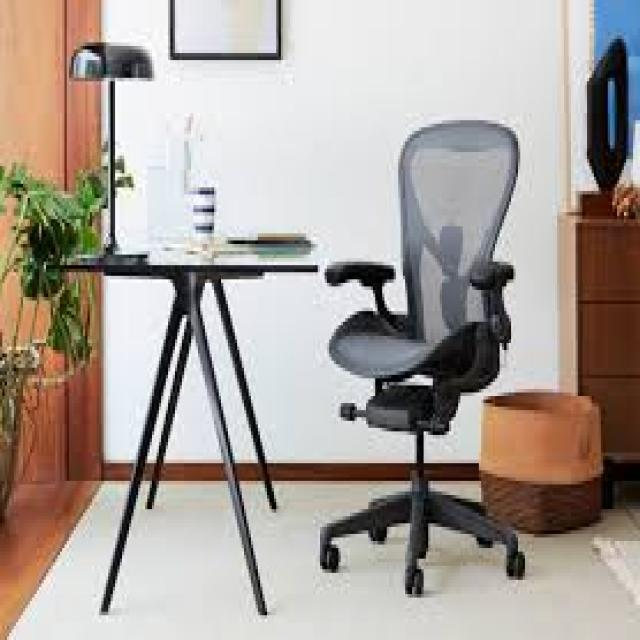chair: (293, 95, 550, 622)
